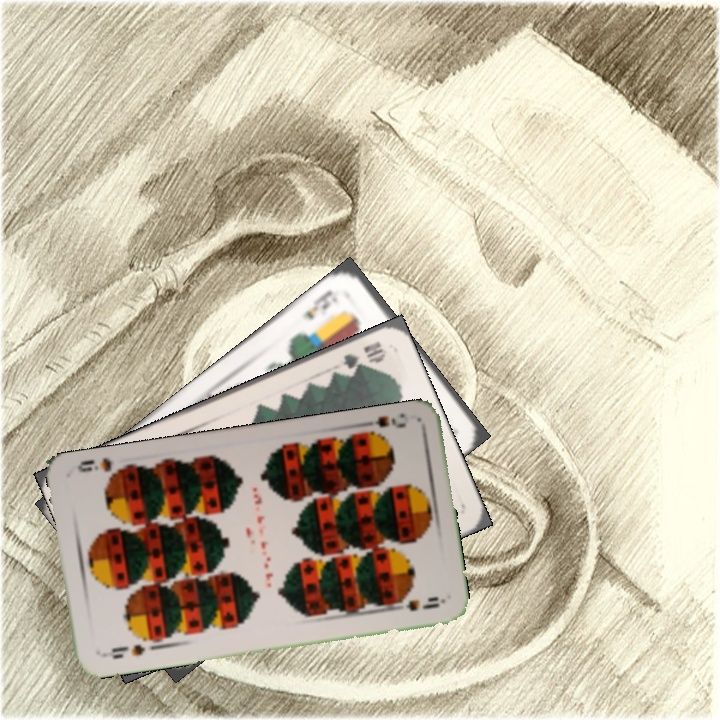EK: (299, 285, 335, 323)
G10: (339, 337, 389, 372)
S9: (356, 412, 409, 439), (107, 640, 148, 662)
